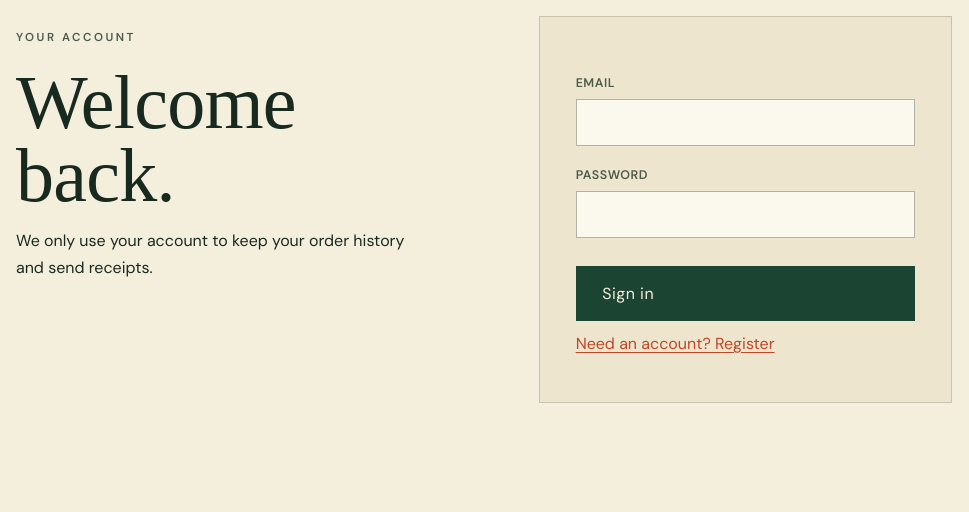
Test: AuthPage › defaults to login mode and toggles to register mode and back
Expected: the heading "Welcome back." is shown, x1=16 y1=60 x2=296 y2=217
Expected: the field labelled "Name" is not shown
Click the button "Need an account? Register" at (675, 344), box x1=576 y1=321 x2=775 y2=366
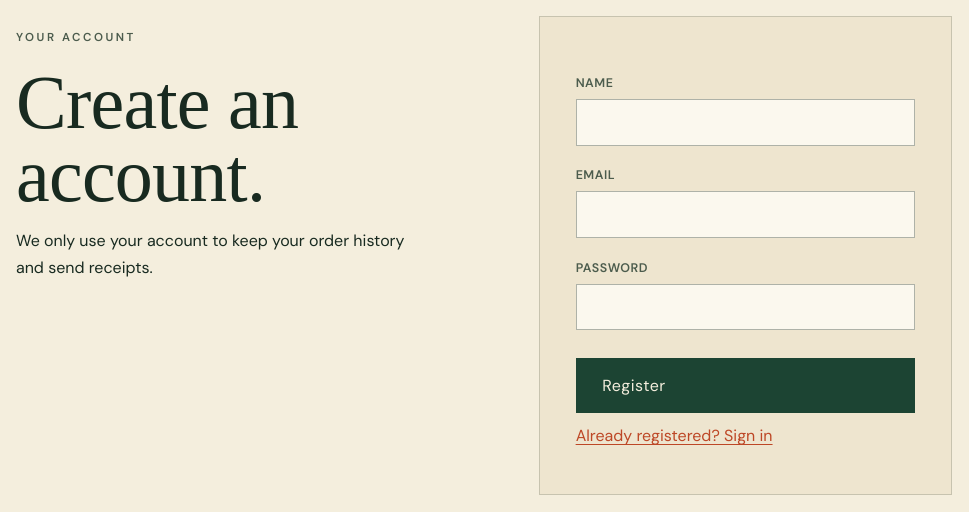
Expected: the field labelled "Name" is shown, x1=576 y1=99 x2=915 y2=146
Expected: the heading "Create an account." is shown, x1=16 y1=60 x2=298 y2=217
Expected: the button "Register" is shown, x1=576 y1=358 x2=915 y2=413
Click the button "Already registered? Sign in" at (674, 436), box x1=576 y1=413 x2=772 y2=458
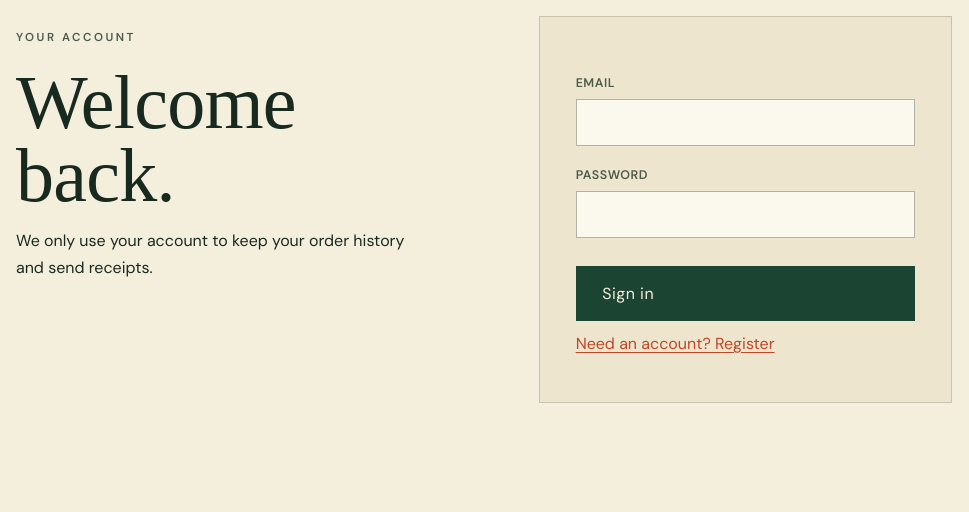
Expected: the heading "Welcome back." is shown, x1=16 y1=60 x2=296 y2=217
Expected: the label labelled "Name" is gone
